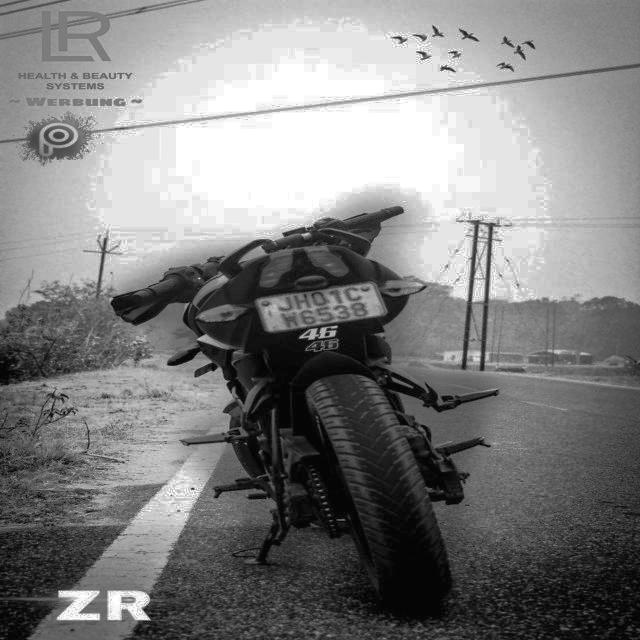Bike: (96, 207, 506, 597)
